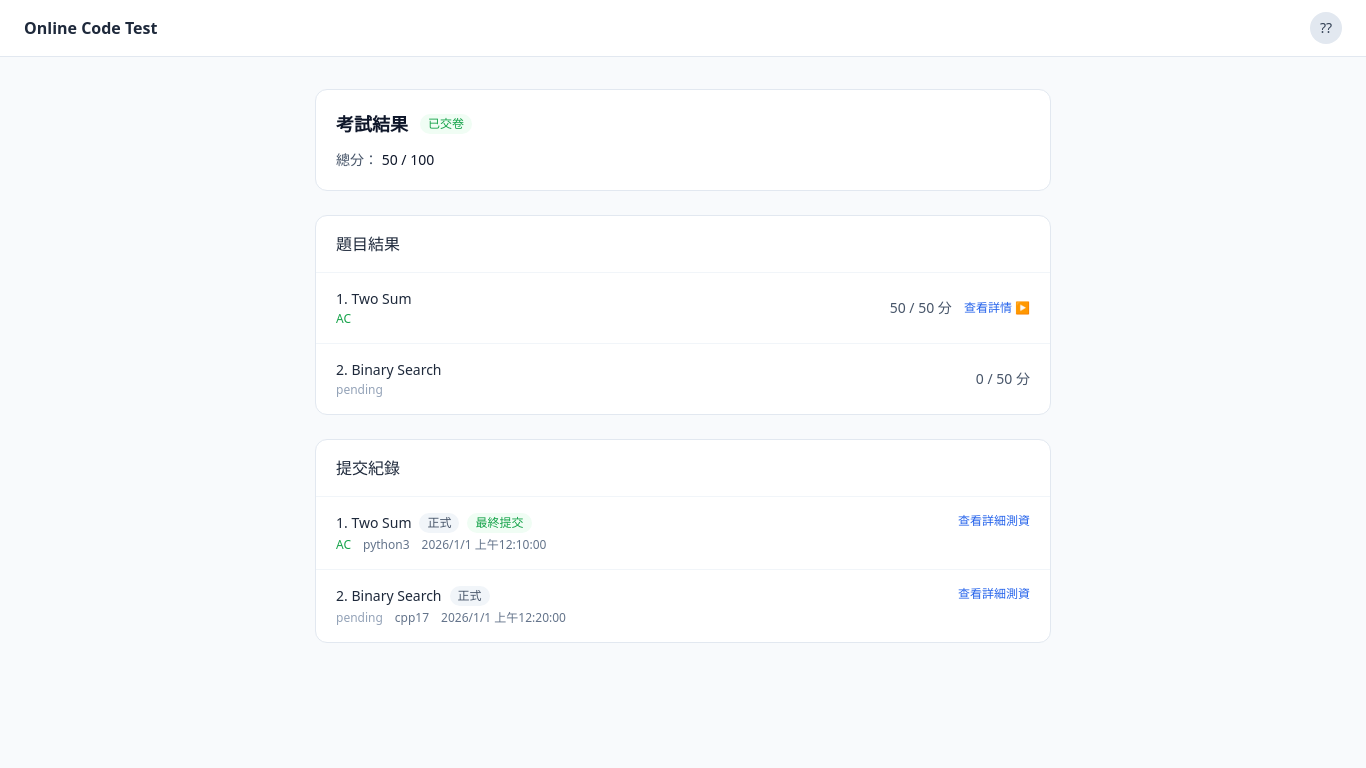
Test: CandidateResultPage › shows error message when history submission detail fetch fails
This screenshot has width=1366, height=768.
Click the button with aria-label "查看詳細測資：提交 9001" at (994, 521), box [958,513,1030,529]
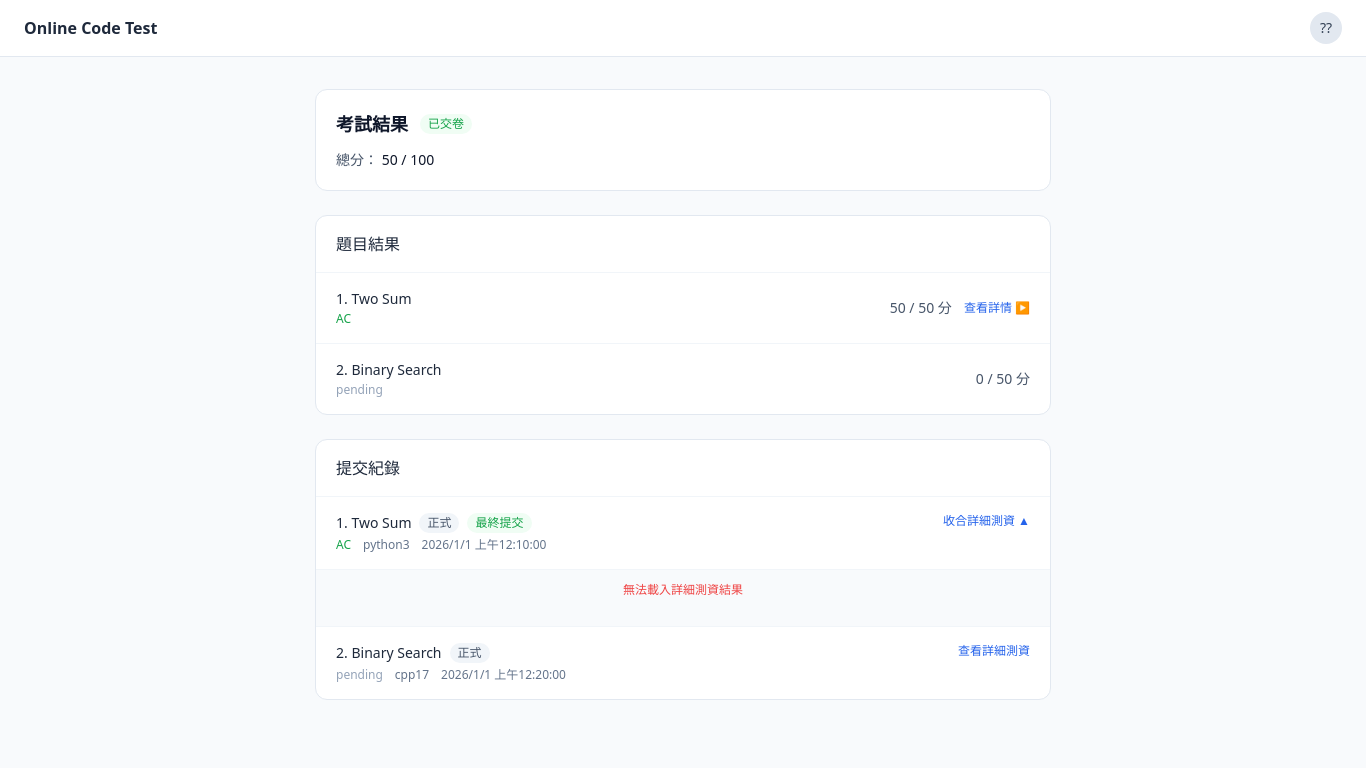
Now the text "無法載入詳細測資結果" is shown, box [623,581,743,598]
